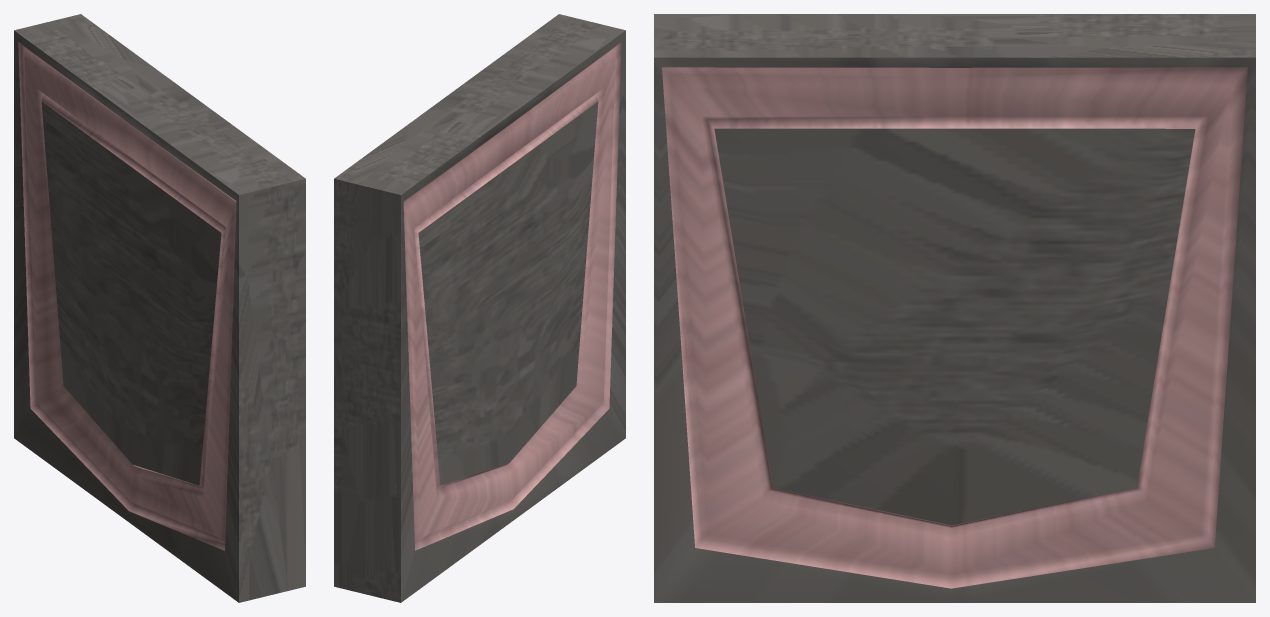
3 renders of one model, left to right at view 1: azimuth 30°, elevation 25°; view 2: azimuth 150°, elevation 25°; view 3: azimuth 270°, elevation 25°, orthographic. The views are drawn at different scales.
Parts seen in each view (by area): view 1: Door_1 (×2); view 2: Door_1 (×2); view 3: Door_1 (×2).
Boxes of the visible parts, bbox=[...] form: Door_1 (×2): bbox=[14, 14, 305, 602]; Door_1 (×2): bbox=[334, 14, 625, 602]; Door_1 (×2): bbox=[654, 14, 1255, 602].
Size of the model in its own units: 0.00412 by 0.024 by 0.024.
2 materials, 2 textured.
